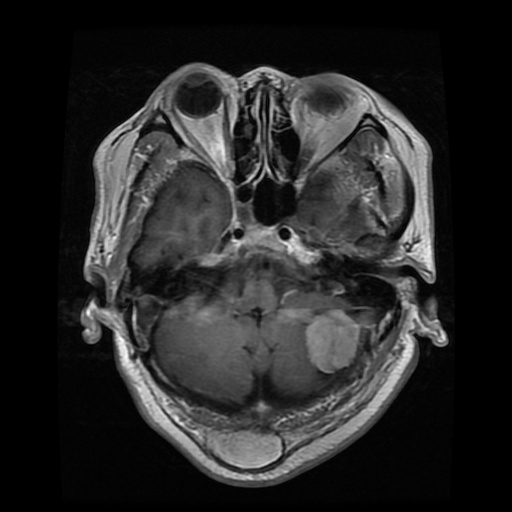meningioma: (301, 312, 356, 368)
